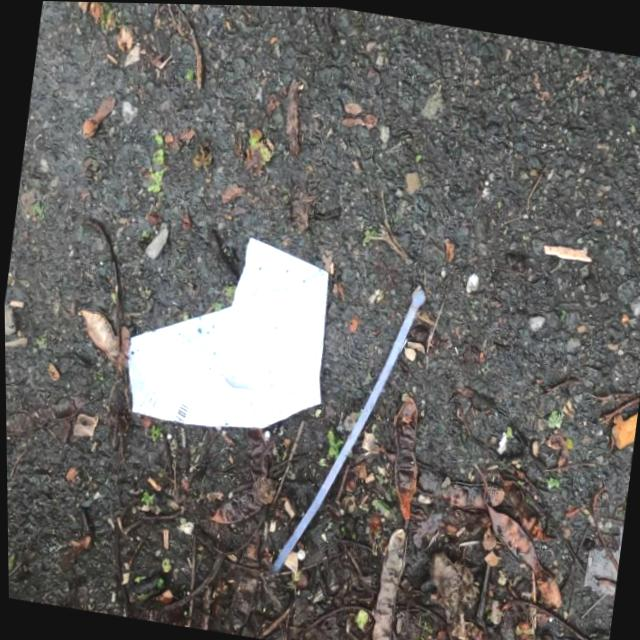Paper: (114, 216, 343, 444)
